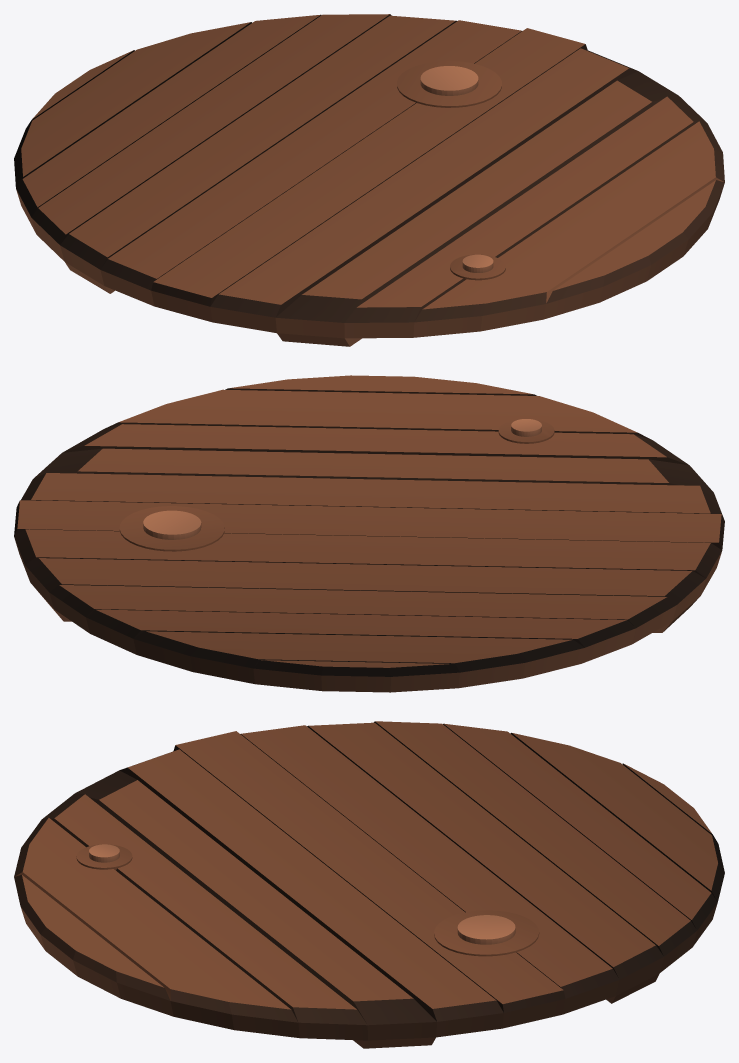
File: Small Med Barrel Lid.fbx
3 renders of one model, top to bottom at view 1: azimuth 30°, elevation 25°; view 2: azimuth 150°, elevation 25°; view 3: azimuth 270°, elevation 25°, orthographic.
Parts seen in each view (by area): view 1: Small Med Barrel Lid; view 2: Small Med Barrel Lid; view 3: Small Med Barrel Lid.
Part boxes in pixels (<box>): Small Med Barrel Lid: <box>14,14,724,346</box>; Small Med Barrel Lid: <box>14,375,724,692</box>; Small Med Barrel Lid: <box>14,721,724,1048</box>.
Bounding box in the file's own units: 13.65 × 186 × 186.
Materials: 1 (1 with a texture image).
